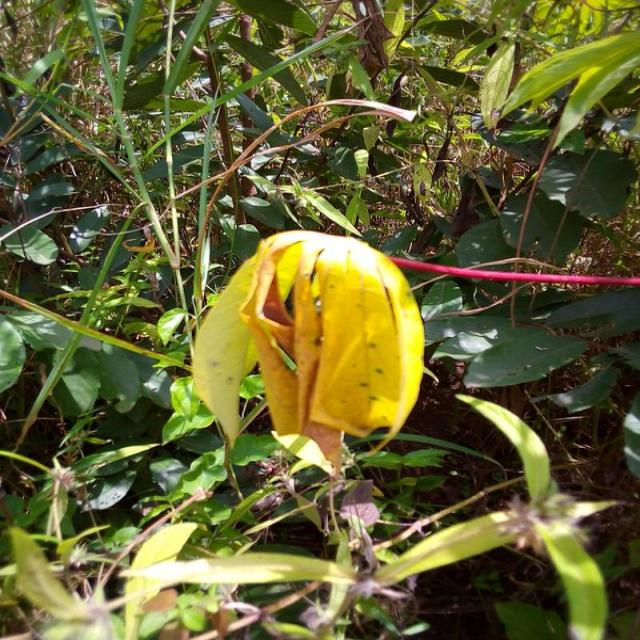cassava leaf: (193, 227, 427, 478)
